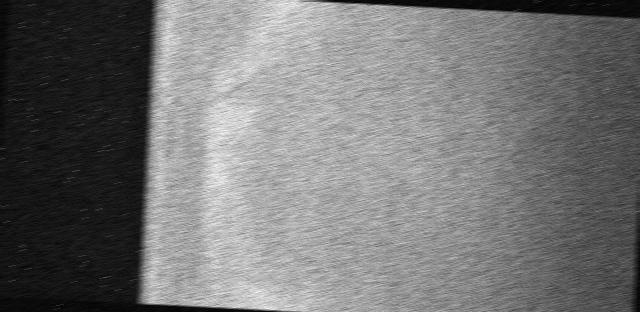silk_spot: (271, 0, 412, 311)
